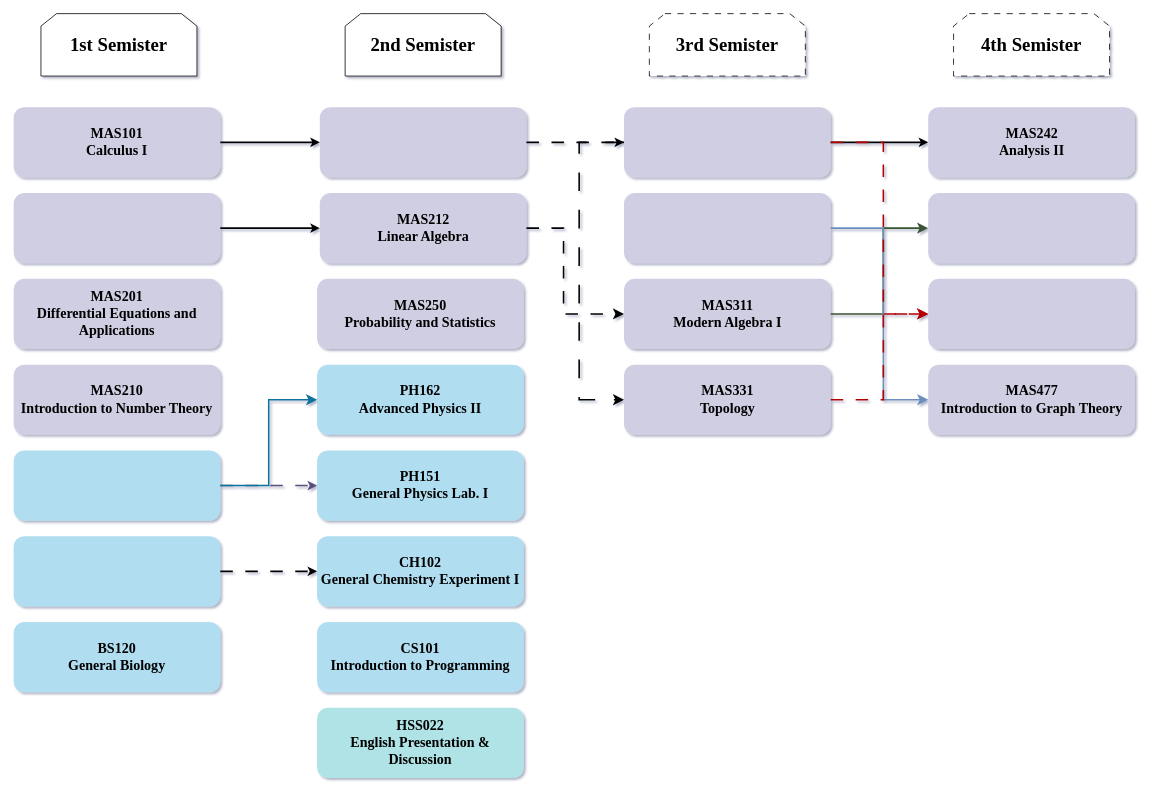
Image size: 1153x798. Some labels were removed from this diagram. The centre of each missing label's shape, as x and y in pixels:
"CH101 General Chemistry" belongs at (x=116, y=571).
"MAS102 Calculus II" belongs at (x=422, y=142).
"MAS109 Introduction to Linear Algebra" belongs at (x=116, y=228).
"MAS241 Analysis I" belongs at (x=727, y=142).
"MAS275 Discrete Mathematics" belongs at (x=727, y=228).
"MAS312 Modern Algebra II" belongs at (x=1031, y=228).
"MAS321 Introduction to Differential Geometry" belongs at (x=1031, y=313).
"PH141 General Physics I" belongs at (x=116, y=485).
